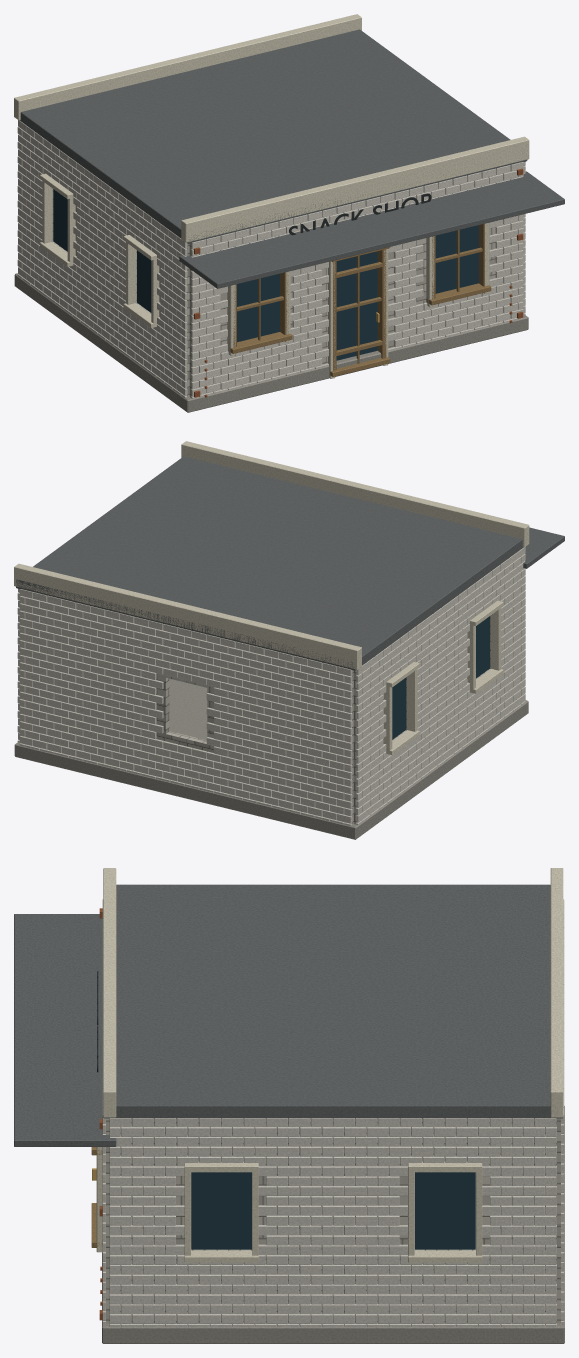
Rendered from SNCKSHP2_lod0.glb.
The picture shows the model from 3 angles, top to bottom: view 1: azimuth 30°, elevation 25°; view 2: azimuth 150°, elevation 25°; view 3: azimuth 270°, elevation 25°; orthographic projection. The views are drawn at different scales.
Visible parts, largest first — view 1: SNCKSHP2_LOD0; view 2: SNCKSHP2_LOD0; view 3: SNCKSHP2_LOD0.
Boxes of the visible parts, x1,y1,x2,y2 form: SNCKSHP2_LOD0: (14,14,564,412); SNCKSHP2_LOD0: (14,441,564,839); SNCKSHP2_LOD0: (14,868,564,1343).
Bounding box in the file's own units: 8.51 × 4.38 × 8.62.
Materials: 14 (11 with a texture image).
